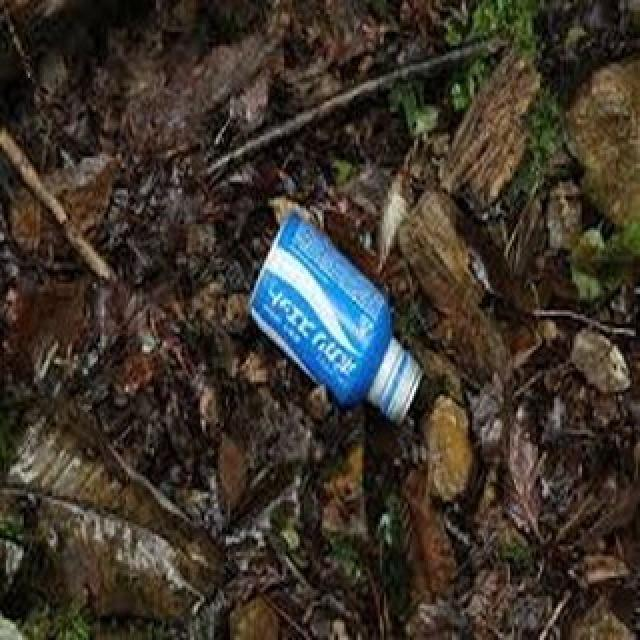recyclable: (247, 214, 422, 422)
